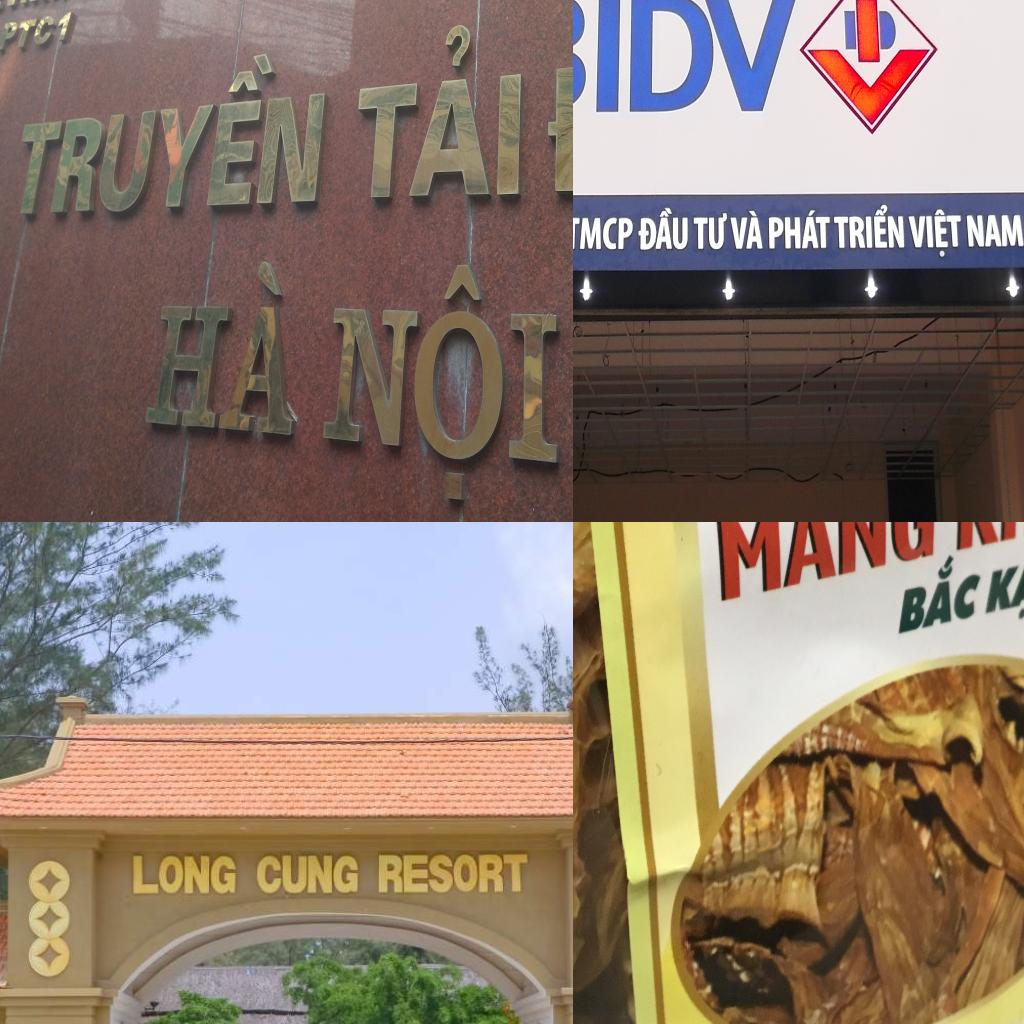text: (312, 248, 570, 520), (7, 43, 335, 226), (132, 252, 305, 447), (354, 12, 520, 208), (573, 0, 803, 115), (705, 522, 942, 609), (896, 543, 986, 640), (129, 850, 240, 900), (253, 850, 361, 898), (980, 546, 1024, 629), (0, 9, 75, 57), (832, 206, 906, 250), (907, 208, 962, 260), (573, 210, 634, 256), (766, 210, 831, 253), (638, 208, 692, 255), (965, 212, 1024, 250), (0, 0, 105, 15), (728, 210, 764, 252), (693, 211, 728, 252)
